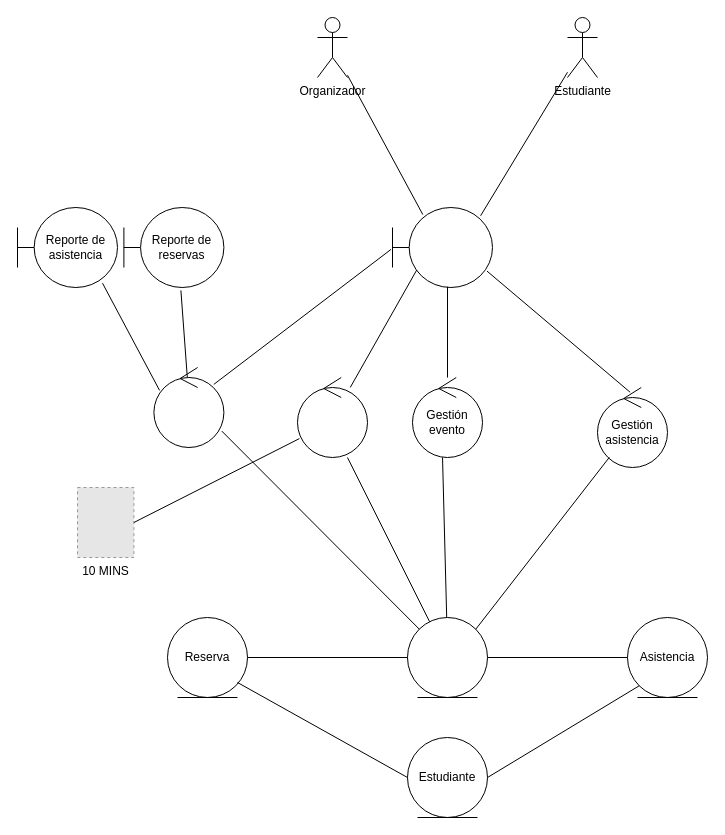
The diagram is 725 pixels wide and 835 high, and some of its shapes have lost their labels. Grey dashed boxes stand in for pictures. The shapes that lost their labels are listed below. From the top down, each one's box as (x1, y1, x2, y2) in pixels, then its label:
(392, 206, 492, 288): Pantalla evento
(153, 366, 224, 448): Gestión reportes
(296, 376, 368, 458): Gestión reserva
(406, 616, 488, 698): Evento
